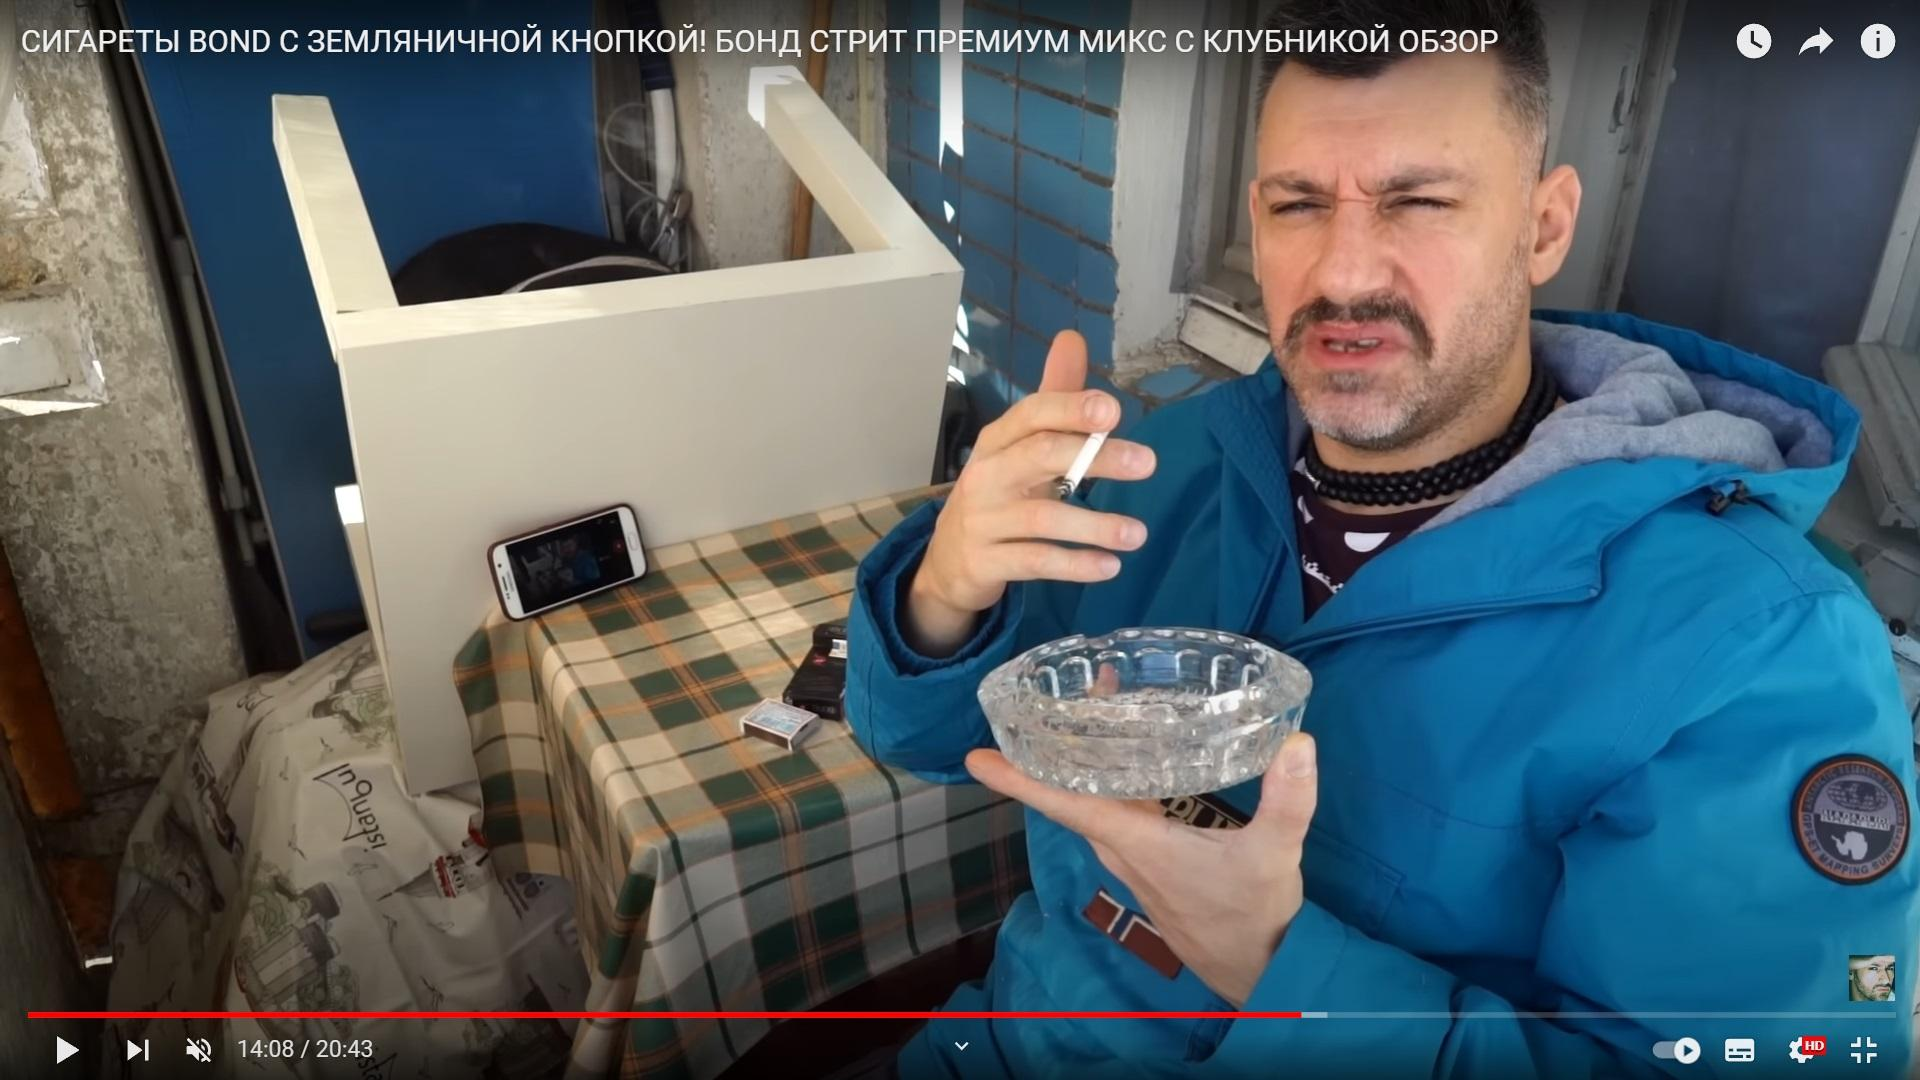cigarette: (1054, 431, 1106, 502)
